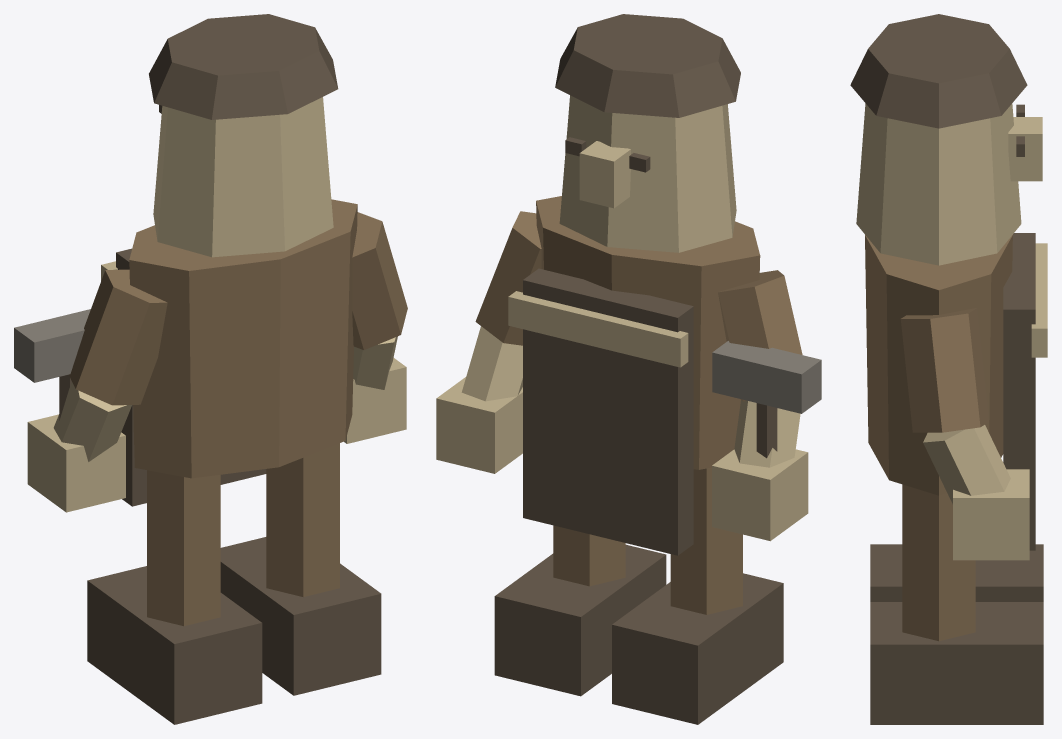
The model's file is NPC_Artisan.fbx.
The picture shows the model from 3 angles, left to right: view 1: azimuth 30°, elevation 25°; view 2: azimuth 150°, elevation 25°; view 3: azimuth 270°, elevation 25°; orthographic projection.
Visible parts, largest first — view 1: NPC_Artisan; view 2: NPC_Artisan; view 3: NPC_Artisan.
Boxes of the visible parts, x1,y1,x2,y2 form: NPC_Artisan: [14, 14, 407, 724]; NPC_Artisan: [436, 14, 821, 724]; NPC_Artisan: [850, 14, 1047, 724].
Bounding box in the file's own units: 1.04 × 1.72 × 0.49.
